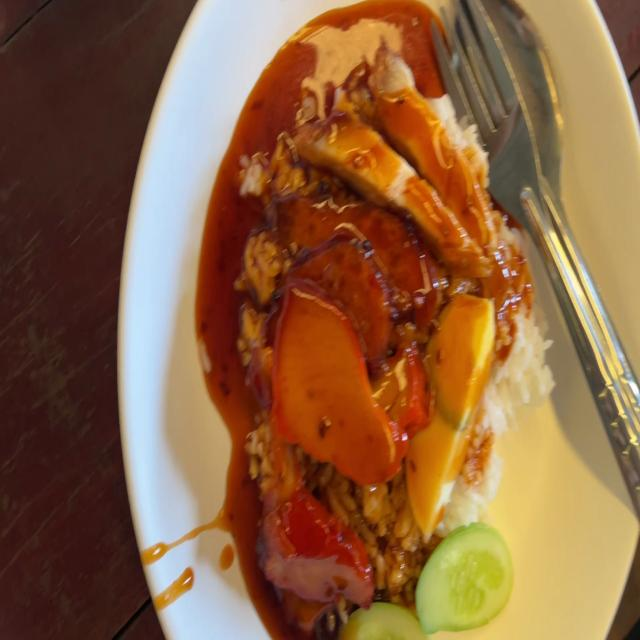red_pork_and_crispy_pork: (410, 285, 493, 528)
stir_fried_basil: (280, 167, 427, 357)
